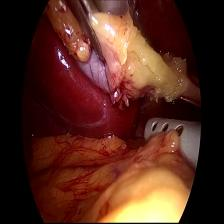Grasper: (63, 0, 110, 66)
Irrigator: (141, 116, 203, 172)
